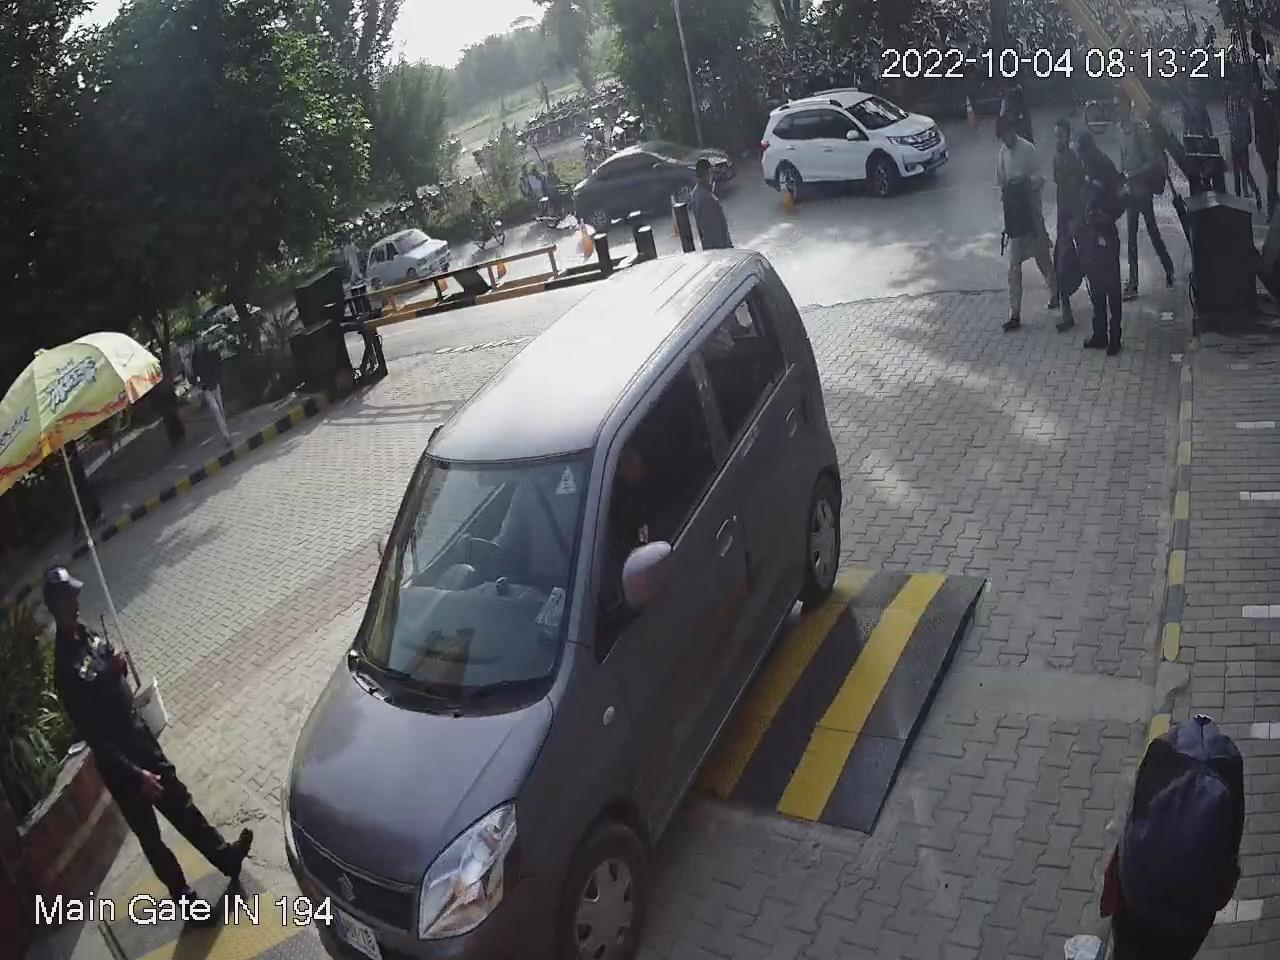windshield: (343, 440, 611, 705)
